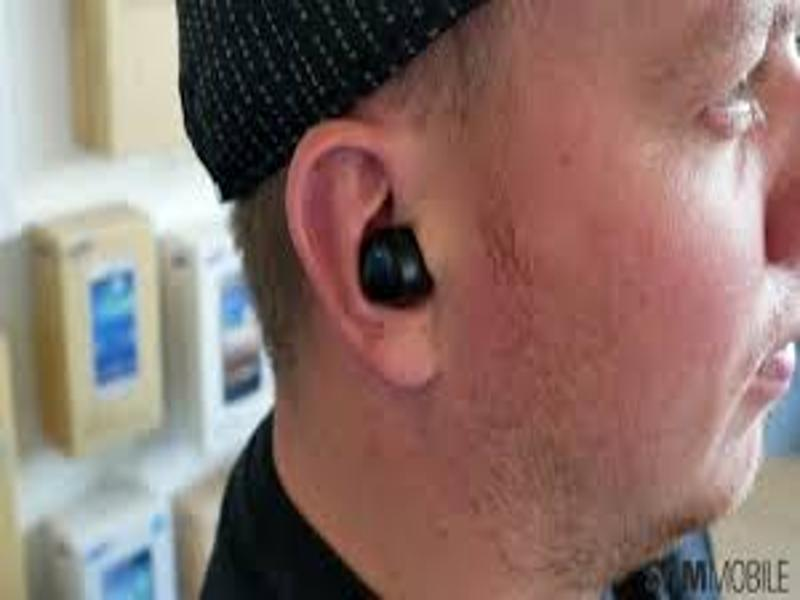headphone: (360, 225, 441, 307)
